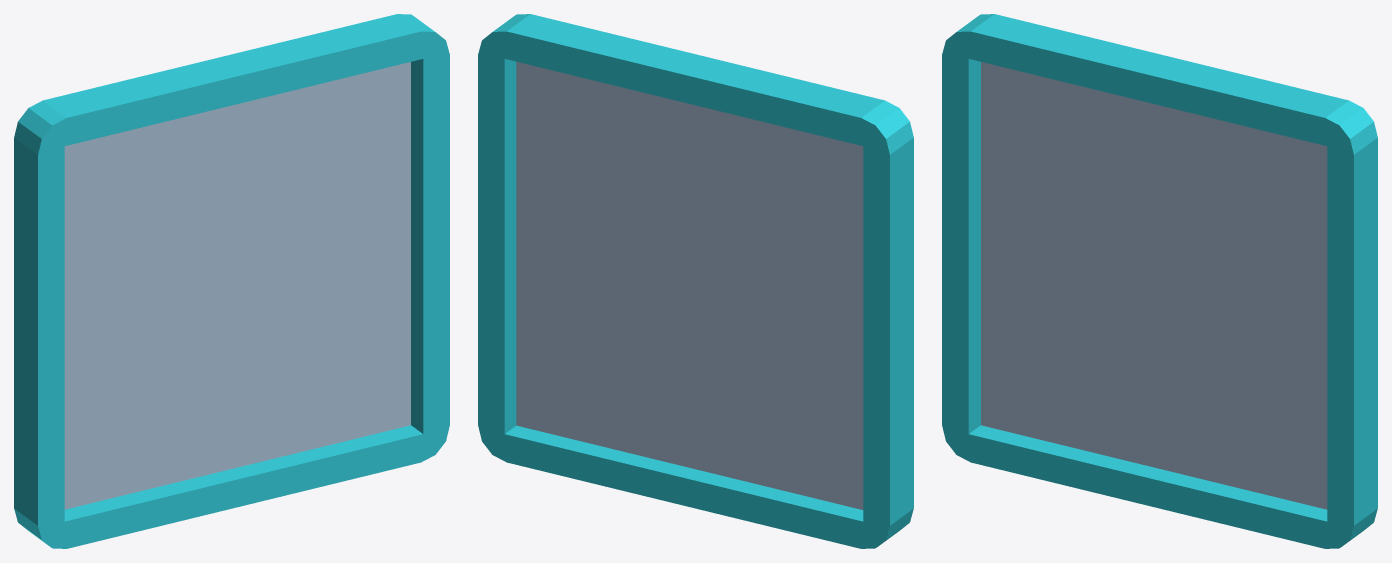
The model's file is mirror.fbx.
3 views of the same model, side by side, from view 1: azimuth 30°, elevation 25°; view 2: azimuth 150°, elevation 25°; view 3: azimuth 330°, elevation 25° (orthographic).
Visible parts, largest first — view 1: Plane; view 2: Plane; view 3: Plane.
Boxes of the visible parts, x1,y1,x2,y2 form: Plane: (14, 14, 449, 548); Plane: (478, 14, 913, 548); Plane: (942, 14, 1377, 548).
Size of the model in its own units: 200 by 200 by 20.13.
